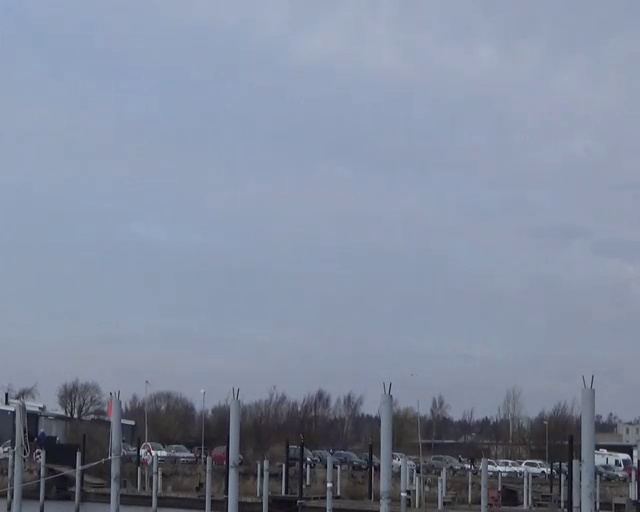BIRD: (486, 184, 498, 201)
